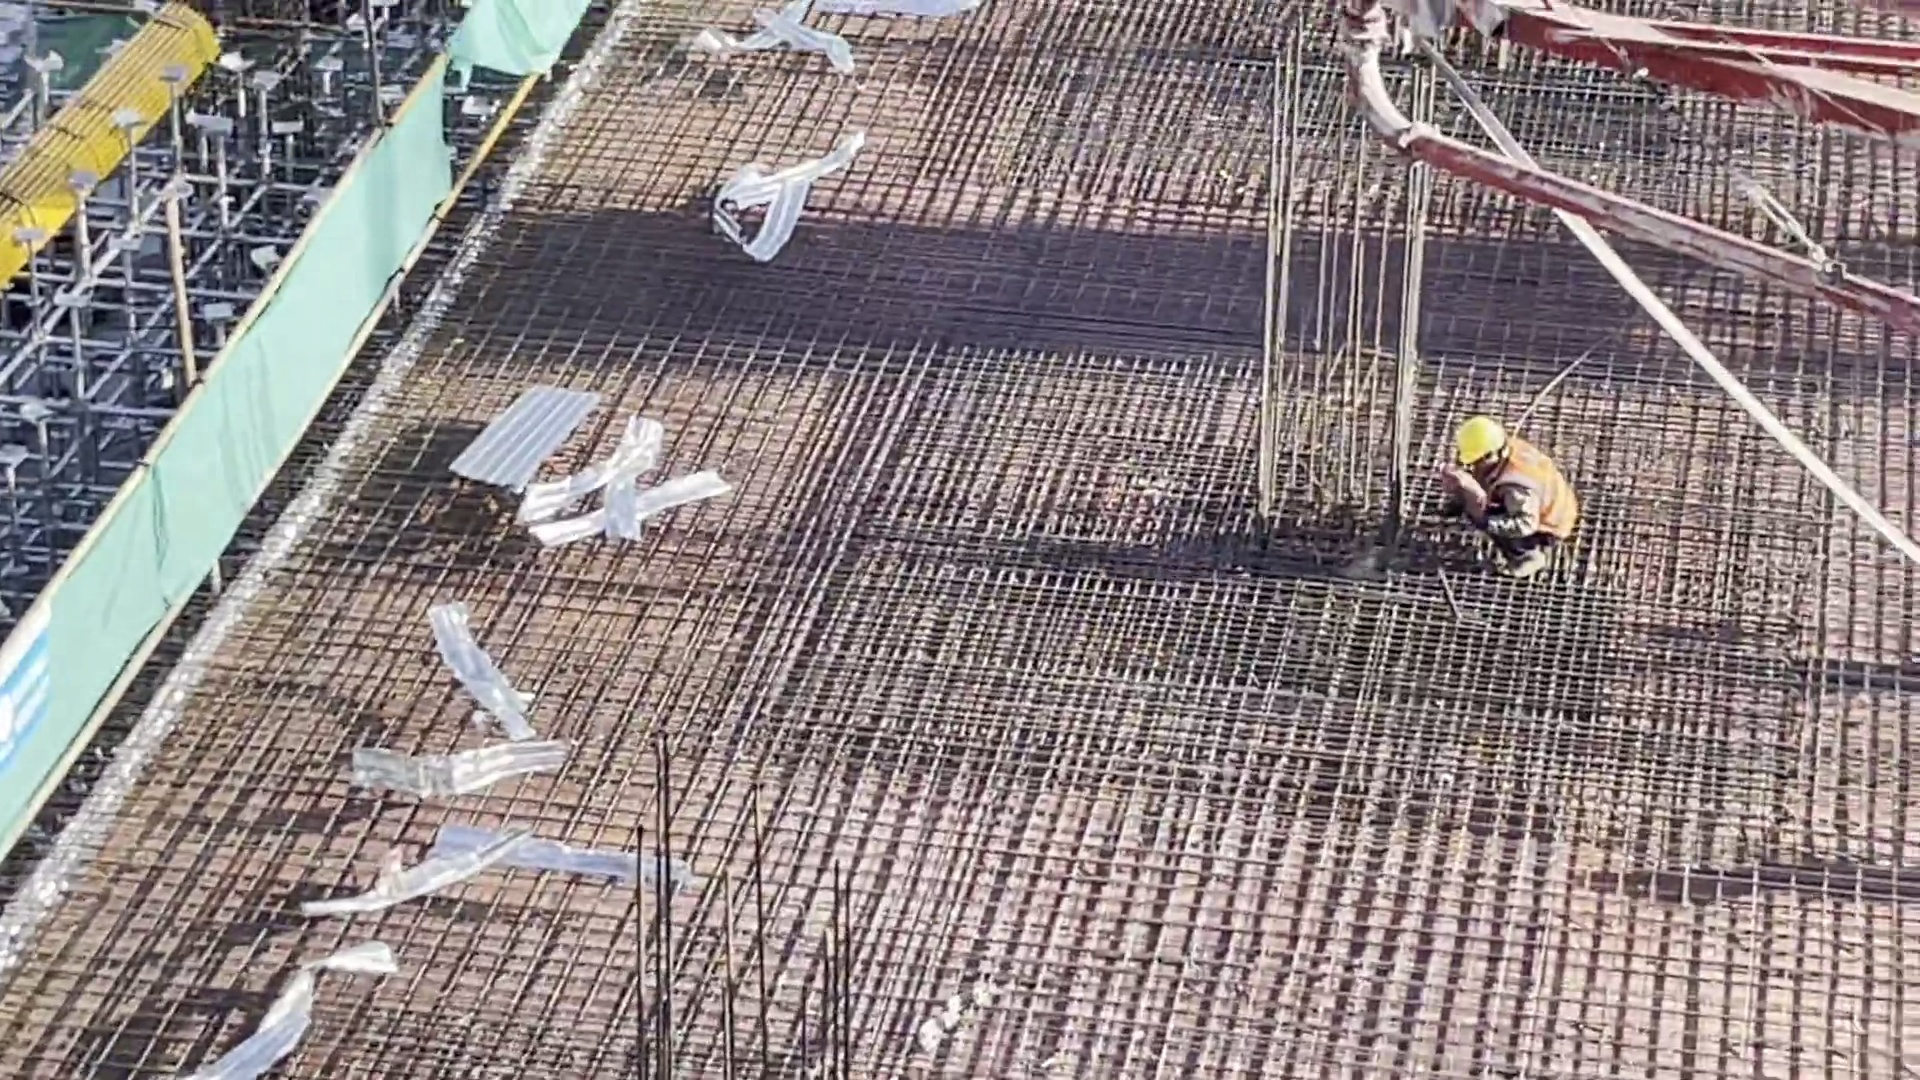helmet: (1453, 411, 1504, 460)
person: (1447, 412, 1588, 591)
slogan: (1, 618, 54, 741)
vest: (1494, 452, 1575, 533)
